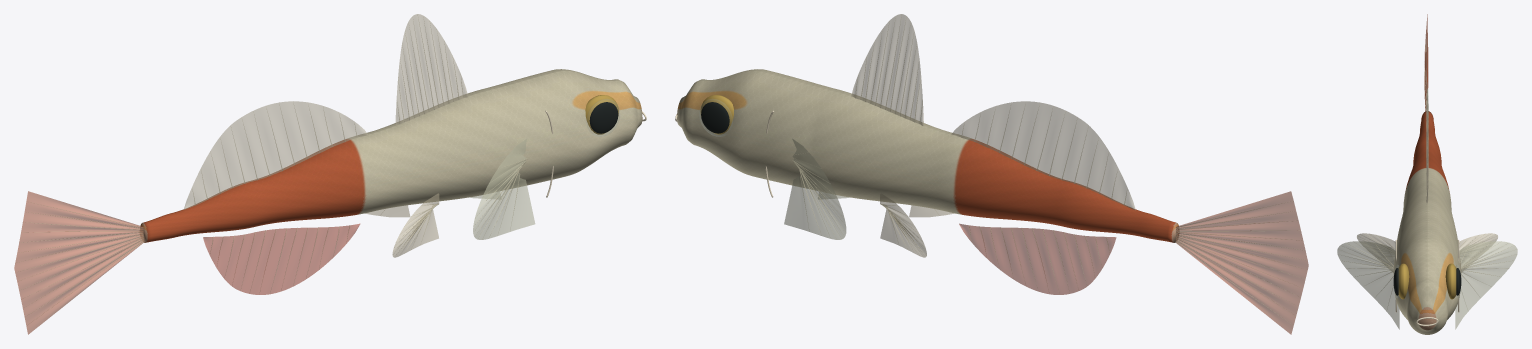
Rendered from firefish-desktop.glb.
3 renders of one model, left to right at view 1: azimuth 30°, elevation 25°; view 2: azimuth 150°, elevation 25°; view 3: azimuth 270°, elevation 25°, orthographic. The views are drawn at different scales.
Visible parts, largest first — view 1: skin, dorsal, tail, anal, dorsal-ray, pectoral-left, pelvic-left, eye-pupil--1; view 2: skin, dorsal, tail, anal, dorsal-ray, pectoral-left, pelvic-left, eye-pupil--1; view 3: skin, pectoral-left, pelvic-left, dorsal-ray, eye-iris--1, tail, dorsal, eye-pupil--1, operculum.
Part boxes in pixels (x1,y1,x2,y2): skin: [140, 69, 642, 242]; dorsal: [183, 14, 467, 209]; tail: [14, 191, 143, 334]; anal: [203, 223, 359, 294]; dorsal-ray: [18, 15, 526, 325]; pectoral-left: [470, 139, 535, 239]; pelvic-left: [365, 193, 439, 257]; eye-pupil--1: [589, 102, 618, 133]; skin: [677, 69, 1179, 242]; dorsal: [851, 14, 1135, 210]; tail: [1176, 191, 1308, 334]; anal: [959, 223, 1116, 294]; dorsal-ray: [792, 17, 1307, 323]; pectoral-left: [784, 139, 849, 239]; pelvic-left: [880, 193, 954, 257]; eye-pupil--1: [701, 102, 729, 133]; skin: [1393, 111, 1461, 334]; pectoral-left: [1337, 241, 1517, 329]; pelvic-left: [1357, 233, 1497, 272]; dorsal-ray: [1346, 21, 1516, 301]; eye-iris--1: [1398, 263, 1456, 299]; tail: [1424, 14, 1428, 111]; dorsal: [1426, 82, 1428, 202]; eye-pupil--1: [1393, 268, 1461, 295]; operculum: [1395, 239, 1459, 326].
Bounding box in the file's own units: 0.6032 × 0.2244 × 0.1805.
11 materials, 1 textured.
